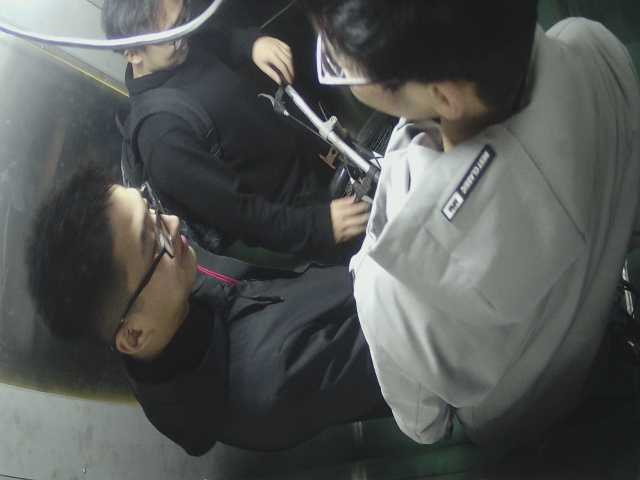bicycle: (263, 63, 389, 207)
person: (313, 1, 633, 433), (26, 171, 421, 448), (101, 6, 367, 250)
